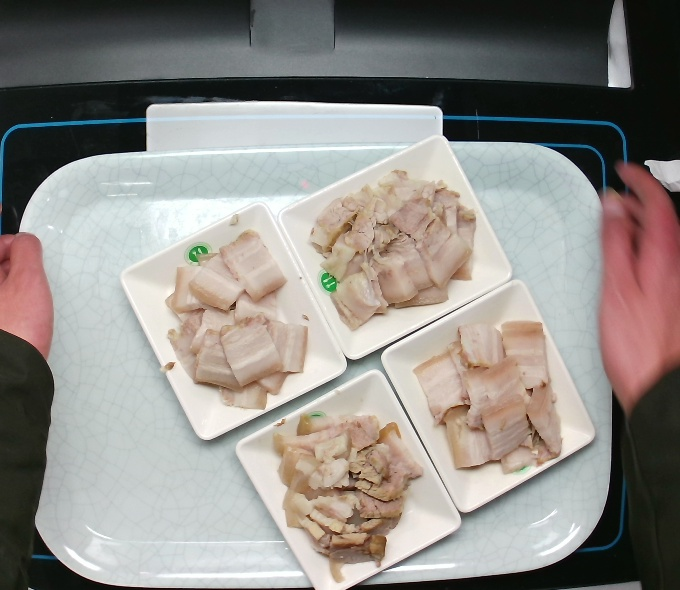wcq-BaiQieRou: (411, 312, 579, 470), (270, 405, 438, 563), (142, 242, 310, 400), (312, 176, 480, 334)
